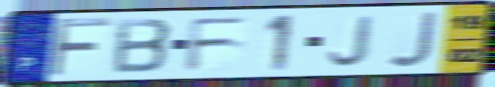1: (264, 12, 297, 73)
B: (110, 17, 175, 75)
F: (46, 17, 114, 79), (183, 15, 252, 74)
J: (385, 10, 440, 70), (326, 14, 378, 69)
